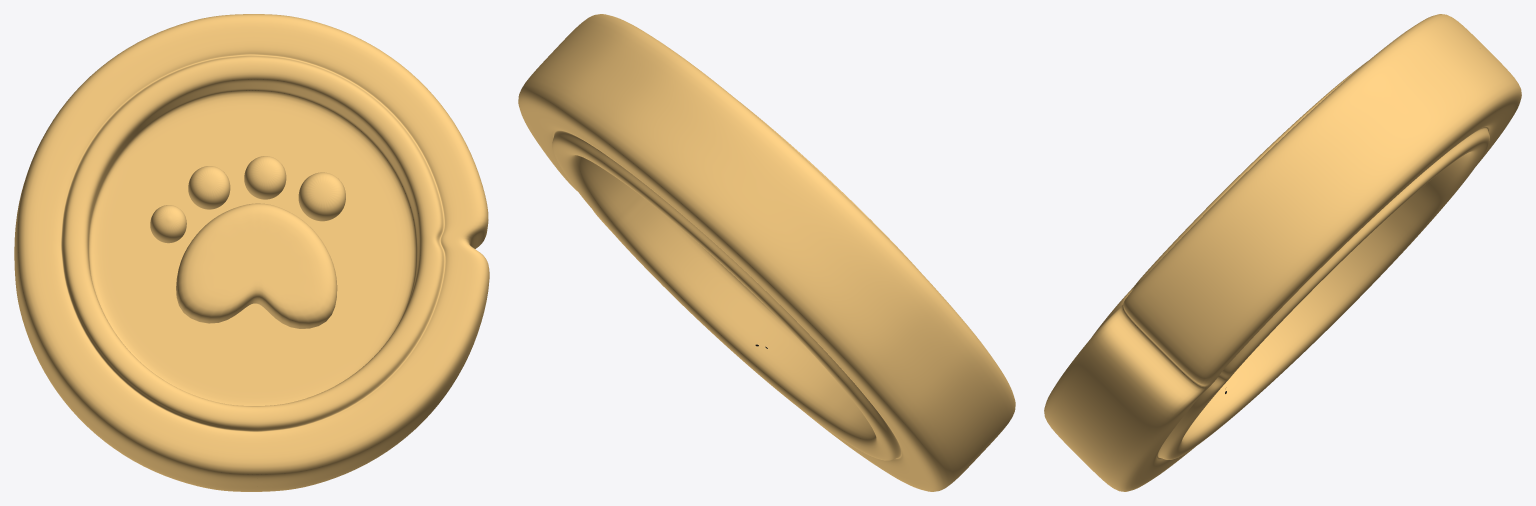
Rendered from game-coin.glb.
3 views of the same model, side by side, from view 1: azimuth 30°, elevation 25°; view 2: azimuth 150°, elevation 25°; view 3: azimuth 270°, elevation 25° (orthographic). The views are drawn at different scales.
Visible parts, largest first — view 1: Feet_Coin, Plane; view 2: Feet_Coin; view 3: Feet_Coin.
Part boxes in pixels (<box>): Feet_Coin: <box>14,14,489,491</box>; Plane: <box>150,156,345,328</box>; Feet_Coin: <box>518,14,1015,491</box>; Feet_Coin: <box>1044,14,1521,491</box>.
Size of the model in its own units: 2.06 by 1.88 by 1.74.
Materials: 3 (2 with a texture image).
